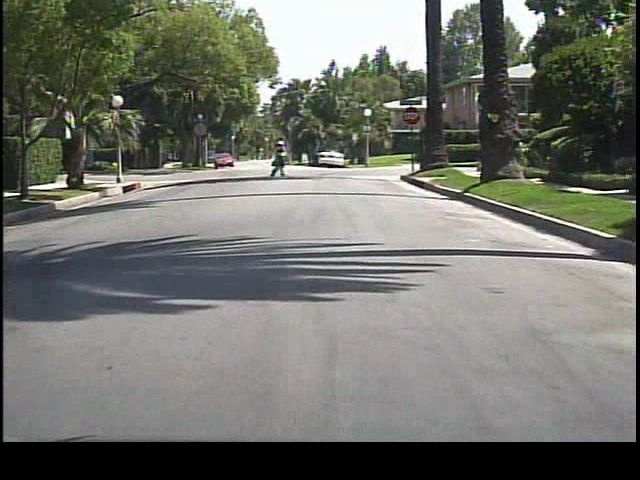person: (271, 135, 289, 175)
